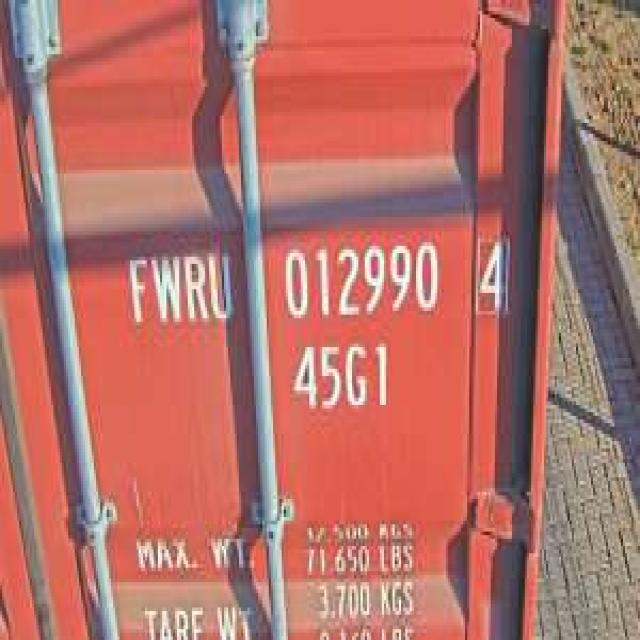dv: (469, 228, 514, 325)
owner: (121, 242, 236, 336)
serial: (277, 228, 444, 325)
size: (284, 332, 394, 420)
